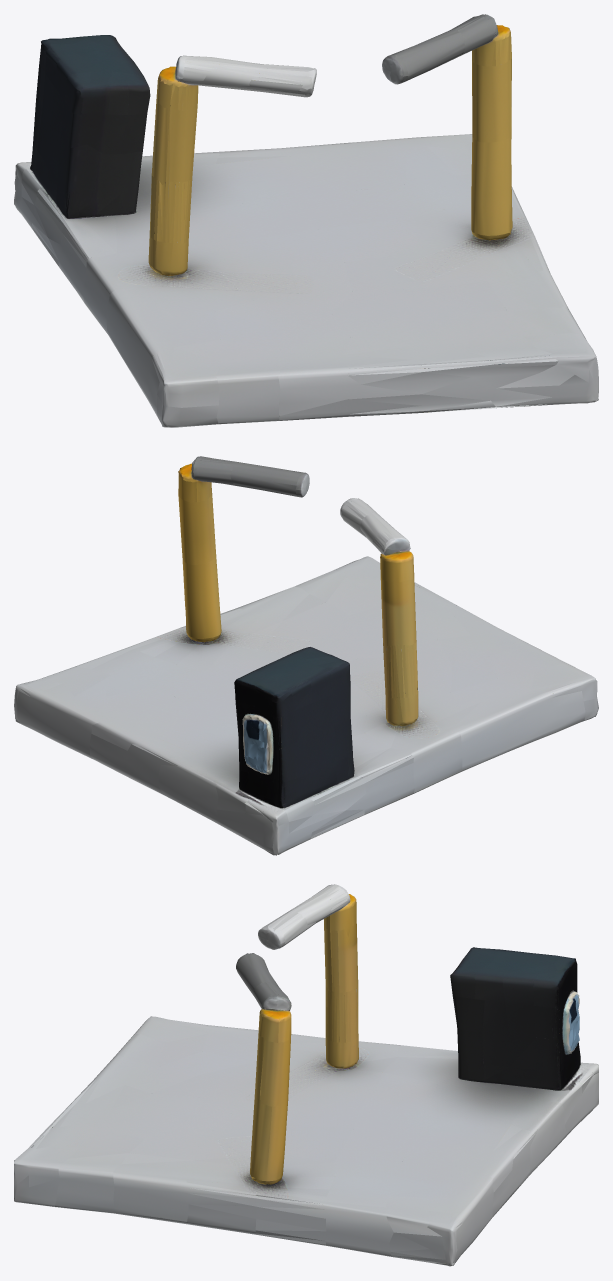
The model's file is repair-bay.glb.
3 renders of one model, top to bottom at view 1: azimuth 30°, elevation 25°; view 2: azimuth 150°, elevation 25°; view 3: azimuth 270°, elevation 25°, orthographic. The views are drawn at different scales.
Size of the model in its own units: 0.8613 by 0.4258 by 1.
1 material, 1 textured.
